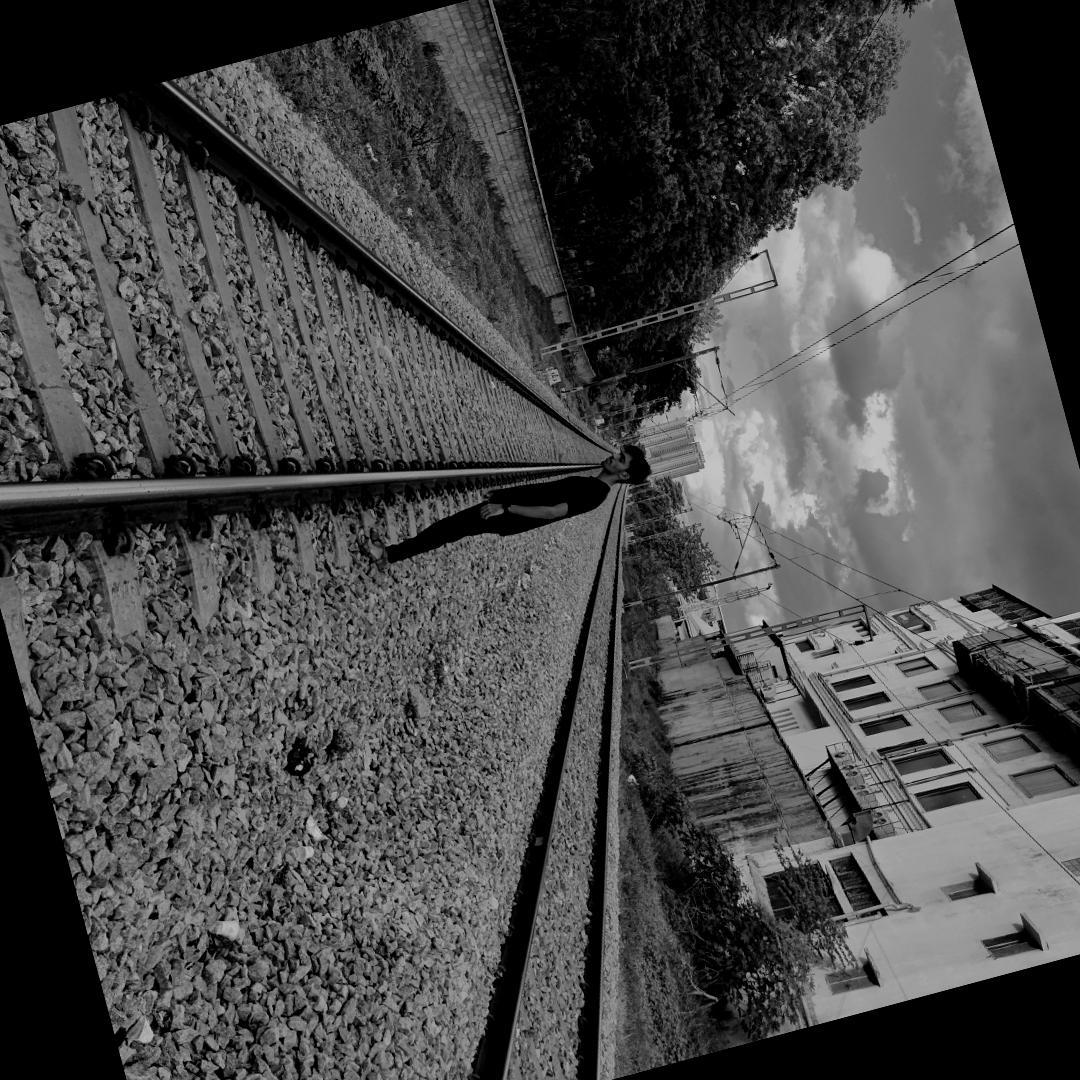standing: (351, 444, 659, 580)
